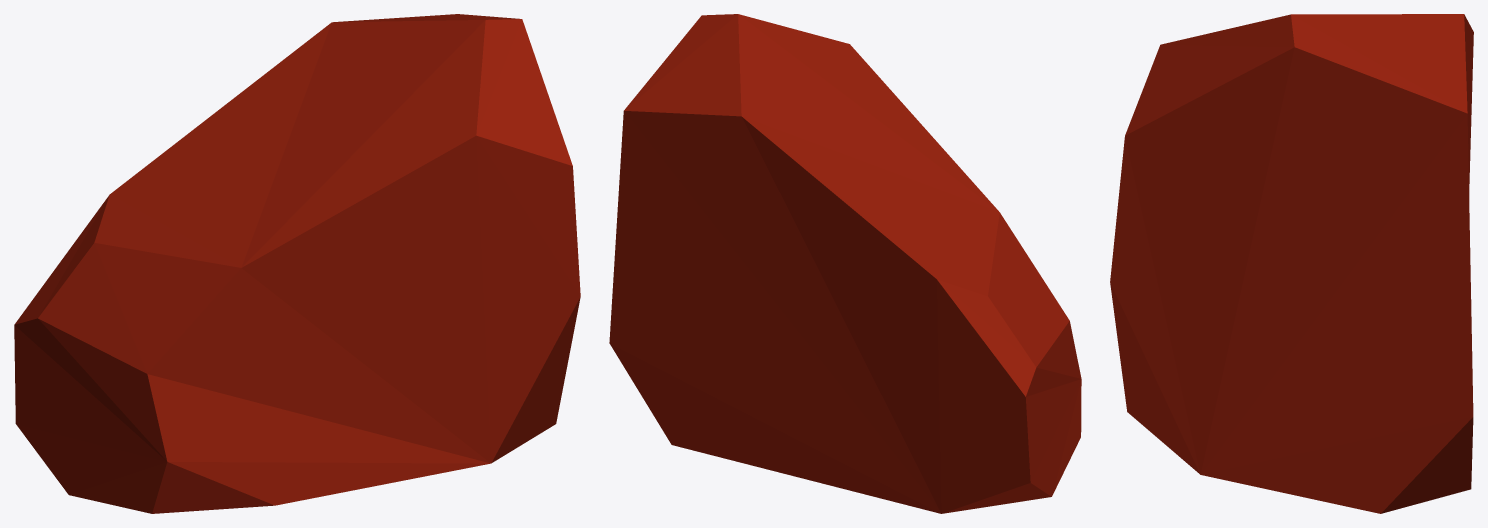
Rendered from SM_Simple_Rock_04.fbx.
The picture shows the model from 3 angles, left to right: view 1: azimuth 30°, elevation 25°; view 2: azimuth 150°, elevation 25°; view 3: azimuth 270°, elevation 25°; orthographic projection. The views are drawn at different scales.
Parts seen in each view (by area): view 1: SM_Simple_Rock_04; view 2: SM_Simple_Rock_04; view 3: SM_Simple_Rock_04.
Boxes of the visible parts, <box> form: SM_Simple_Rock_04: <box>14,14,580,513</box>; SM_Simple_Rock_04: <box>609,14,1081,513</box>; SM_Simple_Rock_04: <box>1110,14,1473,513</box>.
Bounding box in the file's own units: 15.33 × 13.45 × 9.15.
